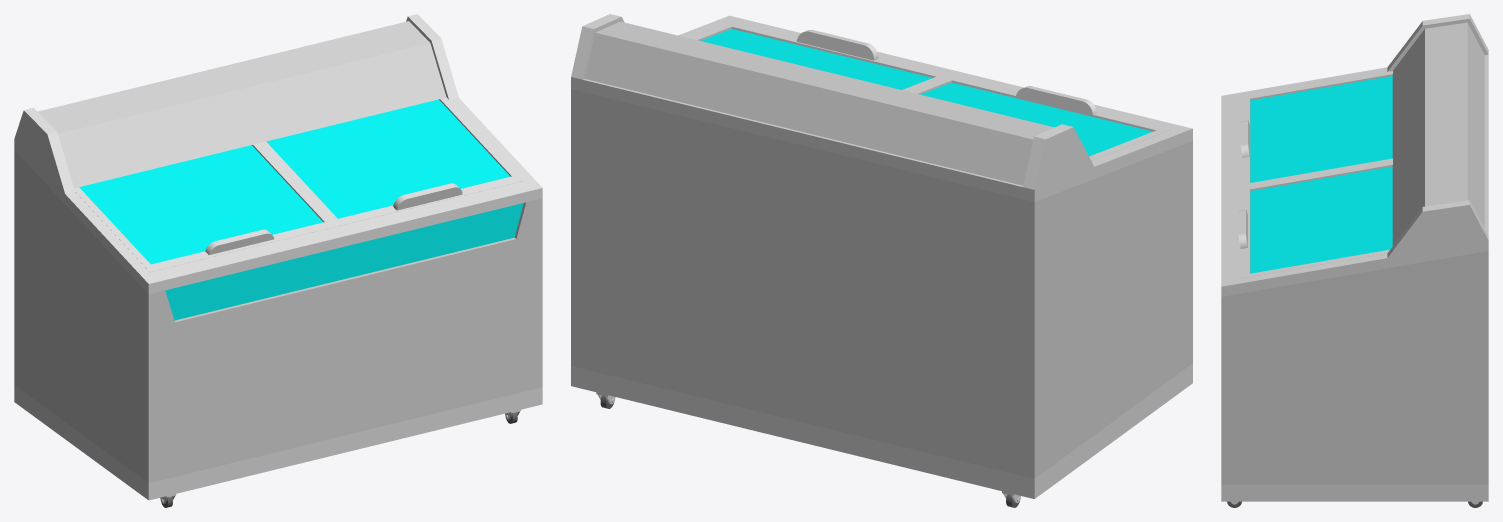
The model's file is CS-icebox.obj.
The picture shows the model from 3 angles, left to right: view 1: azimuth 30°, elevation 25°; view 2: azimuth 150°, elevation 25°; view 3: azimuth 270°, elevation 25°; orthographic projection. The views are drawn at different scales.
Size of the model in its own units: 1200 by 920 by 710.
